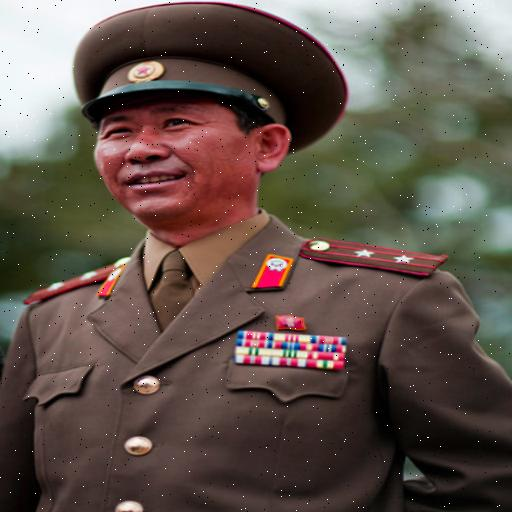north army: (20, 13, 437, 512)
